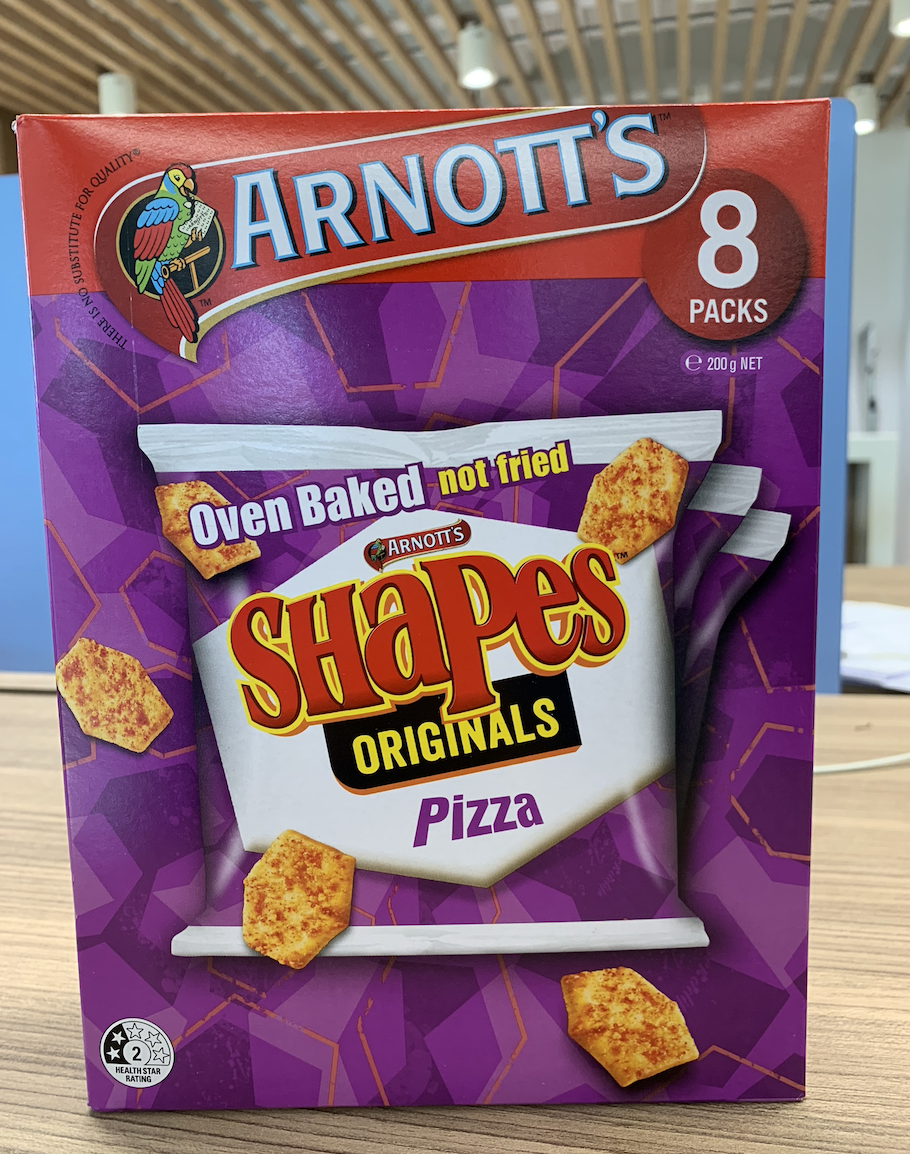crackers_200g-299g: (76, 123, 806, 1094)
